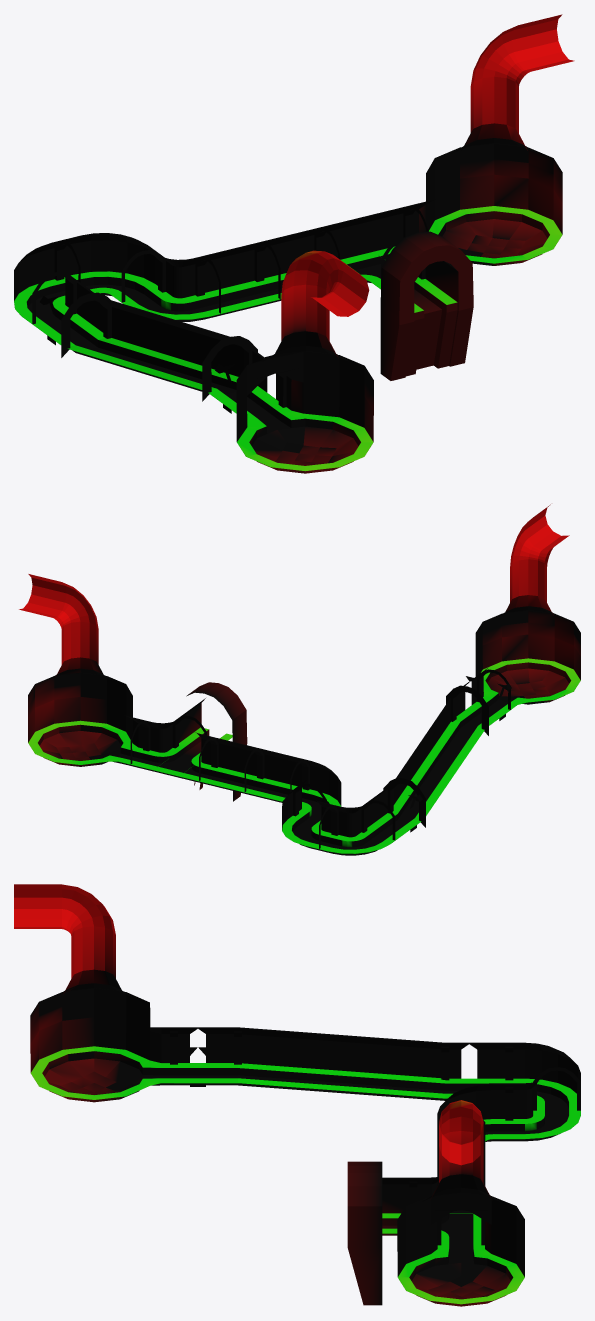
File: canal_2.glb
The picture shows the model from 3 angles, top to bottom: view 1: azimuth 30°, elevation 25°; view 2: azimuth 150°, elevation 25°; view 3: azimuth 270°, elevation 25°; orthographic projection. The views are drawn at different scales.
Parts seen in each view (by area): view 1: Canal_2, Canal_2_Supports; view 2: Canal_2, Canal_2_Supports; view 3: Canal_2, Canal_2_Supports.
Boxes of the visible parts, <box> form: Canal_2: <box>14,14,574,473</box>; Canal_2_Supports: <box>32,205,428,407</box>; Canal_2: <box>19,504,580,855</box>; Canal_2_Supports: <box>130,669,510,848</box>; Canal_2: <box>14,884,580,1306</box>; Canal_2_Supports: <box>170,1031,580,1245</box>.
Bounding box in the file's own units: 35.03 × 19.41 × 35.53.
